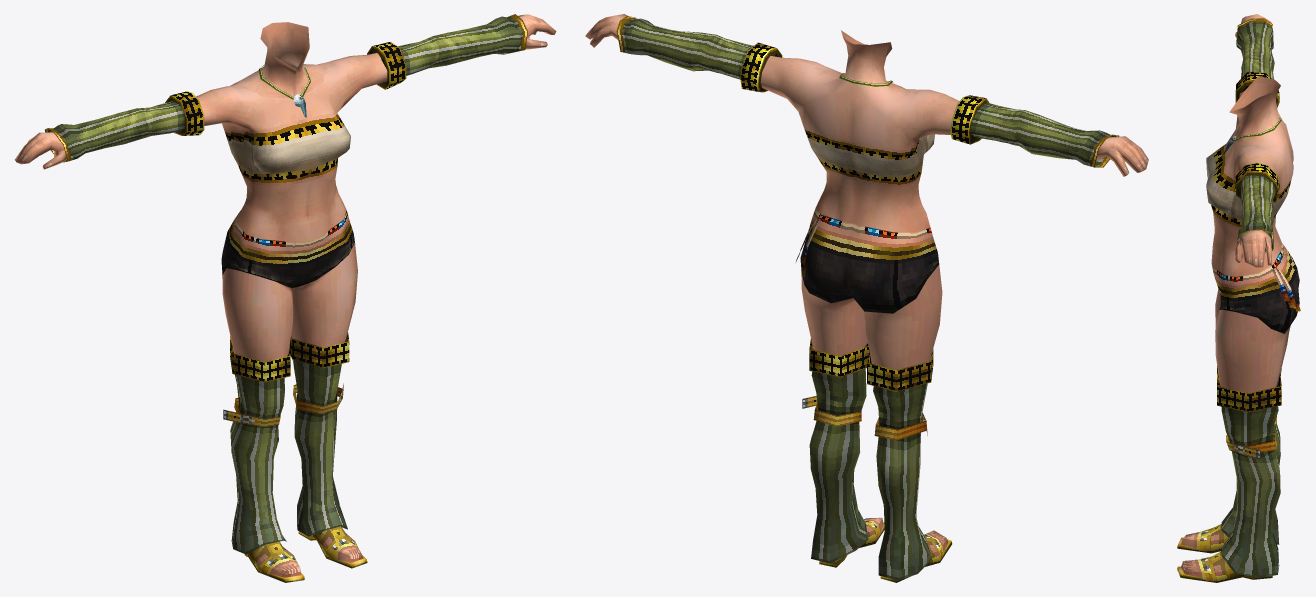
File: f_body024.obj
3 renders of one model, left to right at view 1: azimuth 30°, elevation 25°; view 2: azimuth 150°, elevation 25°; view 3: azimuth 270°, elevation 25°, orthographic. The views are drawn at different scales.
Parts seen in each view (by area): view 1: editpl_f-0000-92, editpl_f-0000-91, editpl_f-0000-90; view 2: editpl_f-0000-92, editpl_f-0000-91, editpl_f-0000-90; view 3: editpl_f-0000-92, editpl_f-0000-91, editpl_f-0000-90.
Boxes of the visible parts, x1=… form: editpl_f-0000-92: x1=221, y1=210, x2=367, y2=582; editpl_f-0000-91: x1=196, y1=22, x2=387, y2=242; editpl_f-0000-90: x1=14, y1=14, x2=556, y2=169; editpl_f-0000-92: x1=795, y1=208, x2=952, y2=582; editpl_f-0000-91: x1=760, y1=30, x2=959, y2=232; editpl_f-0000-90: x1=585, y1=14, x2=1148, y2=176; editpl_f-0000-92: x1=1177, y1=243, x2=1300, y2=582; editpl_f-0000-91: x1=1206, y1=76, x2=1293, y2=276; editpl_f-0000-90: x1=1235, y1=14, x2=1279, y2=267.
Bounding box in the file's own units: 173 × 158 × 37.53.
3 materials, 3 textured.
